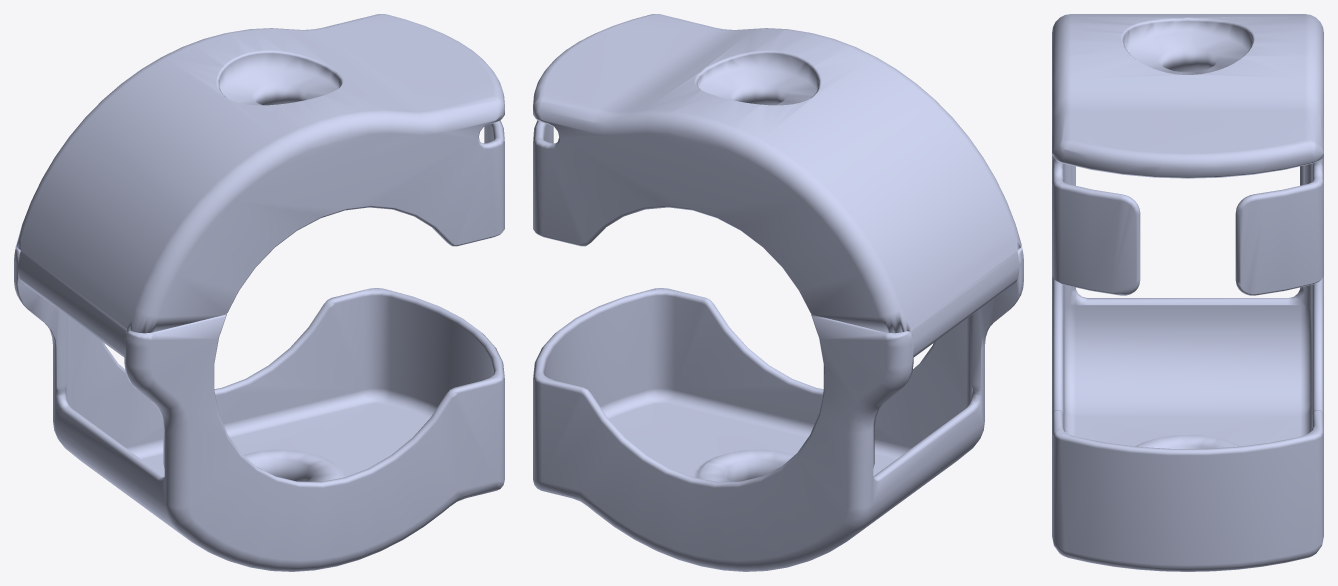
File: left_MCP_VL_visual_cad1ee.glb
The picture shows the model from 3 angles, left to right: view 1: azimuth 30°, elevation 25°; view 2: azimuth 150°, elevation 25°; view 3: azimuth 270°, elevation 25°; orthographic projection. The views are drawn at different scales.
Visible parts, largest first — view 1: left_MCP_VL_visual_0; view 2: left_MCP_VL_visual_0; view 3: left_MCP_VL_visual_0.
Part boxes in pixels (x1,y1,x2,y2): left_MCP_VL_visual_0: [14, 14, 504, 571]; left_MCP_VL_visual_0: [533, 14, 1023, 571]; left_MCP_VL_visual_0: [1052, 14, 1323, 571].
Size of the model in its own units: 0.0207 by 0.022 by 0.0114.
